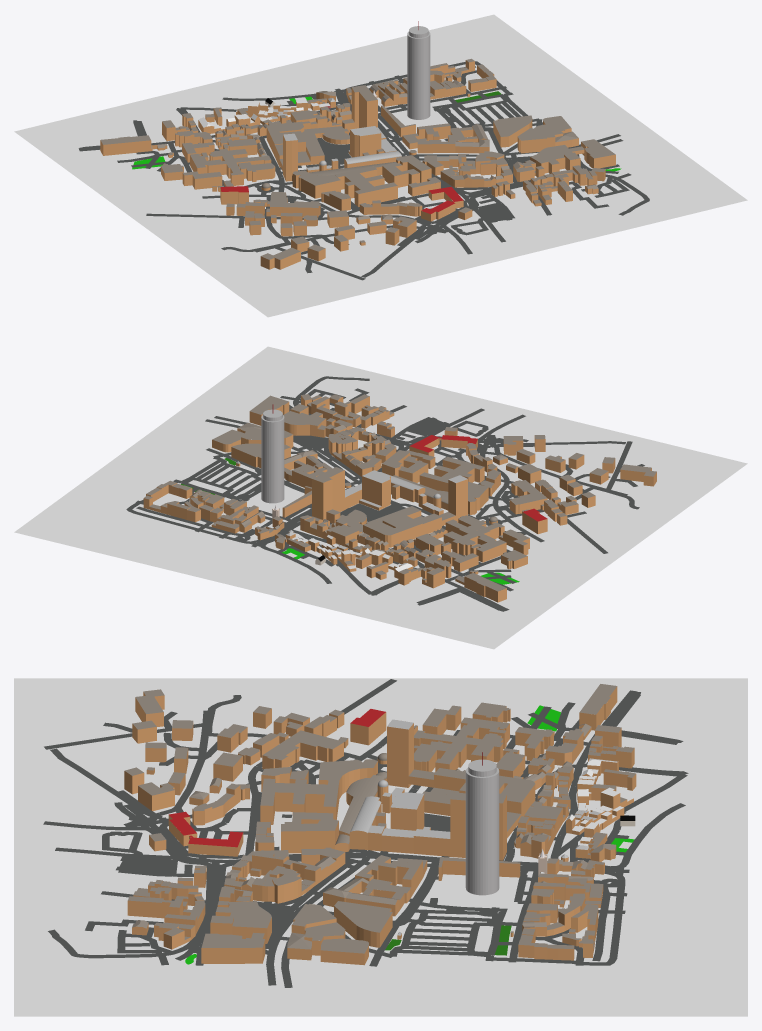
Rendered from campus-joined.glb.
3 views of the same model, one above another, from view 1: azimuth 30°, elevation 25°; view 2: azimuth 150°, elevation 25°; view 3: azimuth 270°, elevation 25° (orthographic). The views are drawn at different scales.
Visible parts, largest first — view 1: Plane, map_5.osm_roads_secondary; view 2: Plane, map_5.osm_roads_secondary; view 3: Plane, map_5.osm_roads_secondary.
Part boxes in pixels (box(x1,y1,x2,y2)): Plane: box(14, 14, 747, 317); map_5.osm_roads_secondary: box(78, 21, 649, 280); Plane: box(14, 346, 747, 649); map_5.osm_roads_secondary: box(126, 376, 656, 611); Plane: box(14, 678, 747, 1016); map_5.osm_roads_secondary: box(43, 679, 688, 987).
Size of the model in its own units: 819 by 166 by 751.
